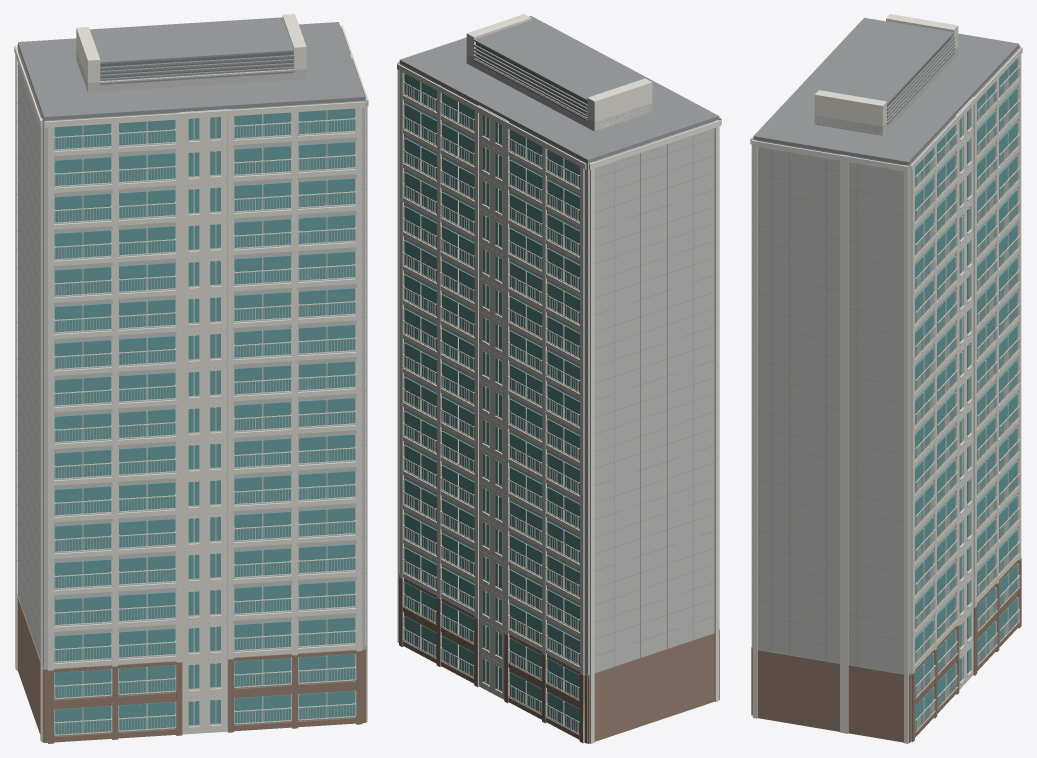
Rendered from bespoke-jamsil-els-117.glb.
3 views of the same model, side by side, from view 1: azimuth 30°, elevation 25°; view 2: azimuth 150°, elevation 25°; view 3: azimuth 270°, elevation 25° (orthographic). The views are drawn at different scales.
Parts seen in each view (by area): view 1: Els117_editable_Els117_turquoise_balcony_glazing, Els117_white_exact_chunk_1, Els117_editable_Els117_light_grey_solid_wall, Els117_editable_Els117_modest_grey_flat_roof_caps, Els117_white_exact_chunk_0, Els117_editable_Els117_muted_ground_wall, Els117_editable_Els117_narrow_charcoal_service_strips; view 2: Els117_editable_Els117_light_grey_solid_wall, Els117_white_exact_chunk_0, Els117_editable_Els117_turquoise_balcony_glazing, Els117_editable_Els117_modest_grey_flat_roof_caps, Els117_editable_Els117_muted_ground_wall, Els117_white_exact_chunk_1, Els117_editable_Els117_narrow_charcoal_service_strips; view 3: Els117_editable_Els117_light_grey_solid_wall, Els117_white_exact_chunk_0, Els117_editable_Els117_turquoise_balcony_glazing, Els117_editable_Els117_modest_grey_flat_roof_caps, Els117_white_exact_chunk_1, Els117_editable_Els117_muted_ground_wall.
Boxes of the visible parts, x1=… form: Els117_editable_Els117_turquoise_balcony_glazing: x1=54, y1=108, x2=355, y2=734; Els117_white_exact_chunk_1: x1=44, y1=14, x2=368, y2=739; Els117_editable_Els117_light_grey_solid_wall: x1=18, y1=47, x2=364, y2=698; Els117_editable_Els117_modest_grey_flat_roof_caps: x1=17, y1=17, x2=365, y2=668; Els117_white_exact_chunk_0: x1=14, y1=44, x2=230, y2=741; Els117_editable_Els117_muted_ground_wall: x1=17, y1=594, x2=366, y2=743; Els117_editable_Els117_narrow_charcoal_service_strips: x1=100, y1=52, x2=293, y2=78; Els117_editable_Els117_light_grey_solid_wall: x1=399, y1=54, x2=719, y2=675; Els117_white_exact_chunk_0: x1=397, y1=63, x2=721, y2=743; Els117_editable_Els117_turquoise_balcony_glazing: x1=404, y1=73, x2=579, y2=732; Els117_editable_Els117_modest_grey_flat_roof_caps: x1=399, y1=16, x2=719, y2=675; Els117_editable_Els117_muted_ground_wall: x1=399, y1=575, x2=719, y2=743; Els117_white_exact_chunk_1: x1=397, y1=14, x2=721, y2=642; Els117_editable_Els117_narrow_charcoal_service_strips: x1=476, y1=42, x2=587, y2=114; Els117_editable_Els117_light_grey_solid_wall: x1=754, y1=46, x2=1019, y2=673; Els117_white_exact_chunk_0: x1=910, y1=45, x2=1022, y2=741; Els117_editable_Els117_turquoise_balcony_glazing: x1=915, y1=59, x2=1017, y2=729; Els117_editable_Els117_modest_grey_flat_roof_caps: x1=753, y1=18, x2=1019, y2=674; Els117_white_exact_chunk_1: x1=750, y1=14, x2=958, y2=743; Els117_editable_Els117_muted_ground_wall: x1=751, y1=558, x2=1021, y2=742.
Bounding box in the file's own units: 23.72 × 45.95 × 18.56.
